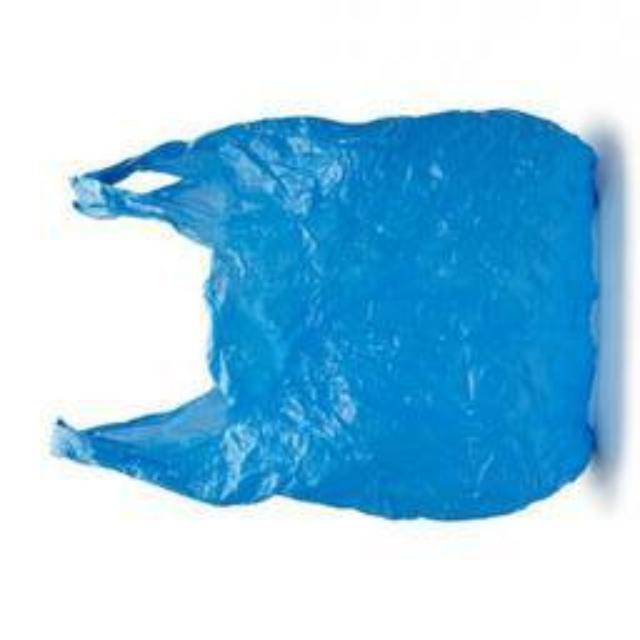Bolsa-de-plastico: (69, 110, 608, 525)
